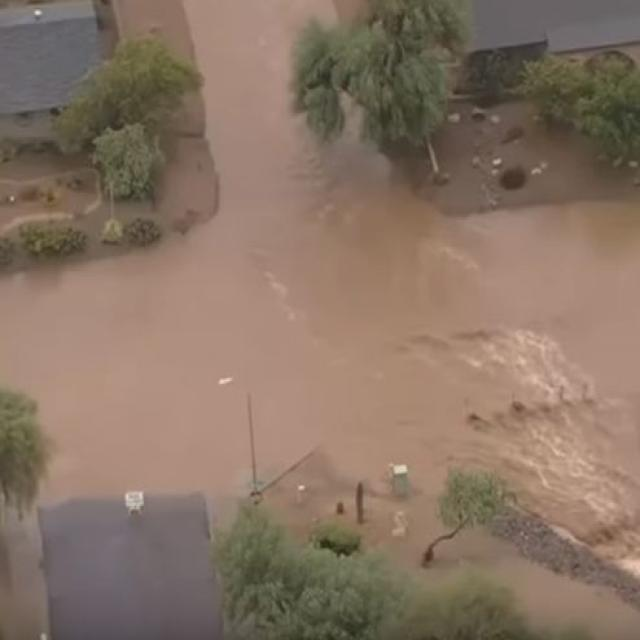flooded_areas: (0, 179, 639, 571)
